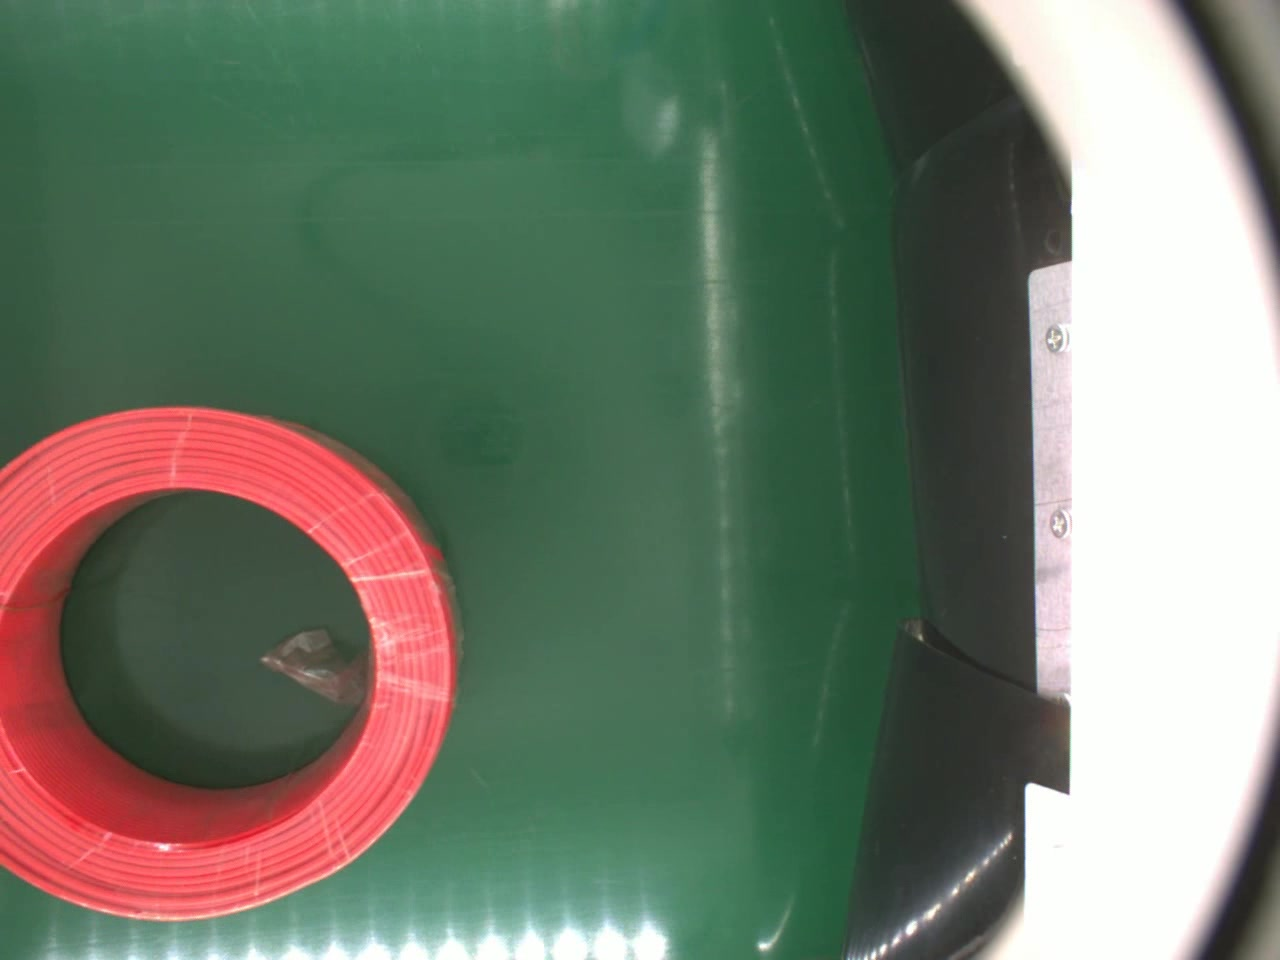red: (0, 398, 467, 929)
